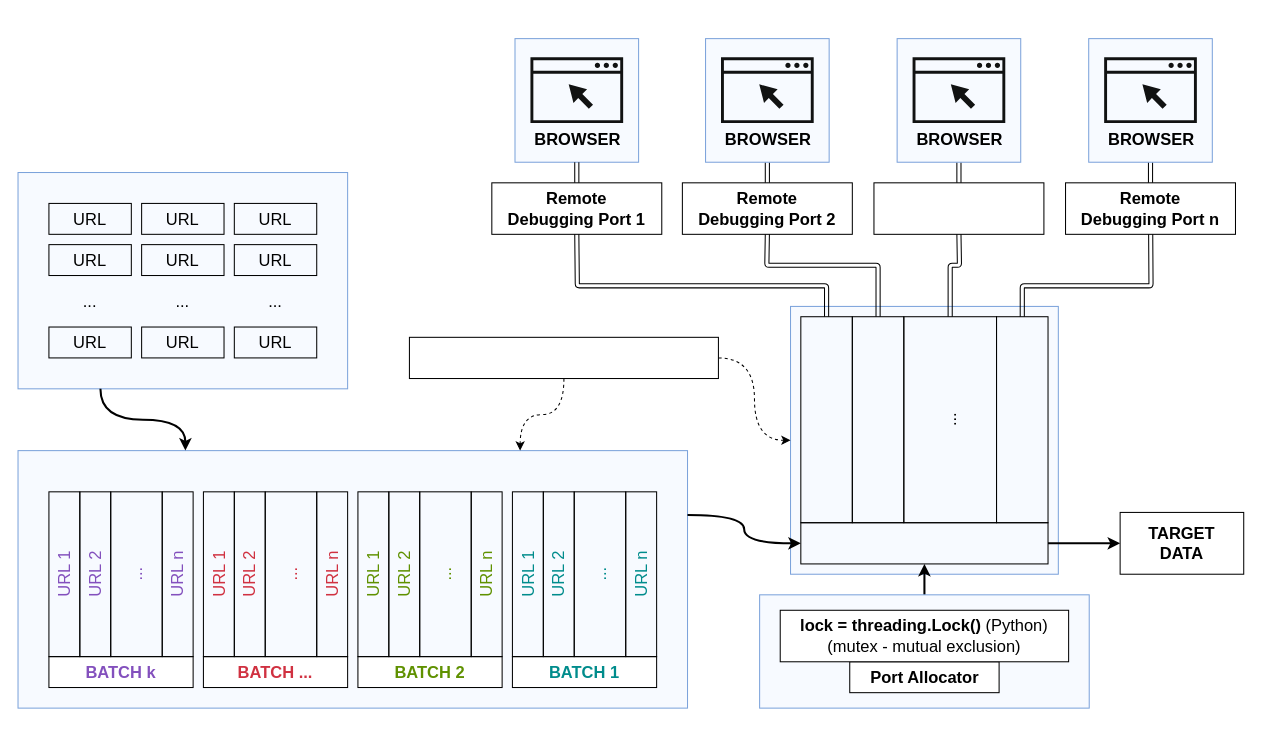
Image size: 1262x735. Some labels were removed from this diagram. The centre of each missing label's shape, as x and y in pixels:
"n = Thread per Batch = URL per Batch" belongs at [563,357].
"Remote Debugging Port ..." belongs at [958,208].
"Selenium Thread 1" belongs at [826,419].
"Selenium Thread 2" belongs at [877,419].
"Selenium Thread n" belongs at [1021,419].
"Selenium Web Driver Pool" belongs at [924,543].
